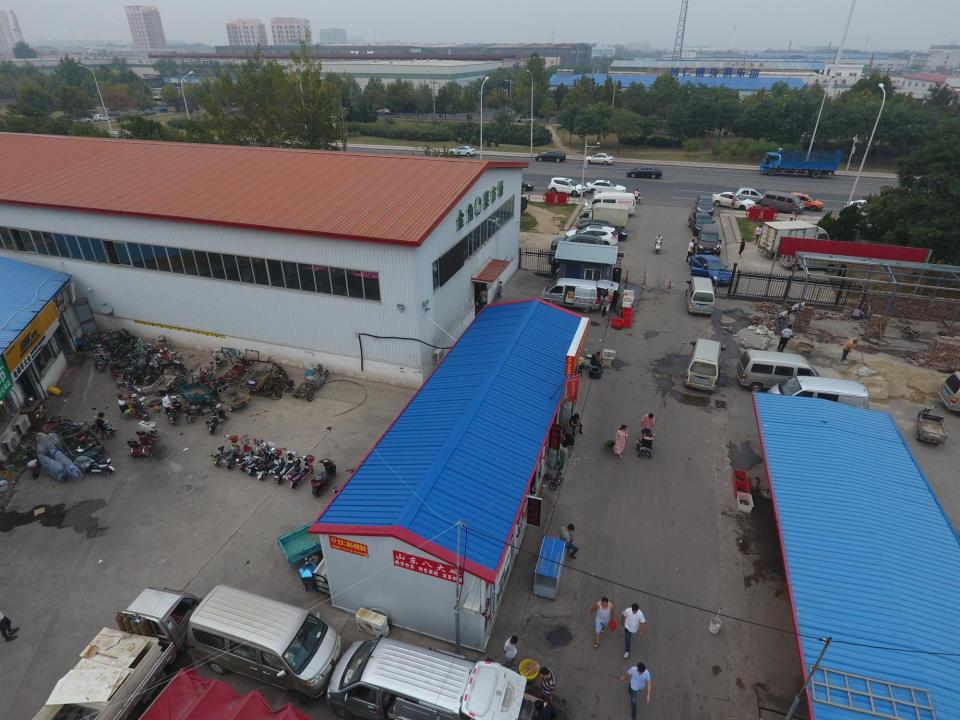car: (690, 253, 732, 287), (566, 224, 618, 246), (551, 234, 604, 254), (577, 220, 627, 240), (548, 249, 600, 267), (712, 191, 755, 211), (547, 177, 586, 197), (787, 191, 824, 211), (687, 212, 716, 236), (697, 224, 719, 254), (846, 198, 882, 216), (585, 180, 627, 194), (734, 187, 768, 204), (694, 195, 715, 216), (627, 166, 663, 178), (506, 178, 534, 192), (536, 150, 566, 162), (585, 153, 614, 165), (449, 146, 476, 156), (516, 114, 534, 123), (374, 108, 391, 114)
truck: (31, 586, 204, 720), (759, 220, 831, 260), (760, 147, 842, 177), (579, 202, 630, 230)
van: (187, 584, 343, 705), (326, 637, 528, 719), (768, 375, 869, 422), (736, 349, 820, 391), (542, 277, 619, 312), (684, 338, 726, 392), (780, 239, 841, 273), (582, 192, 636, 218), (686, 276, 715, 316), (762, 189, 804, 215)
